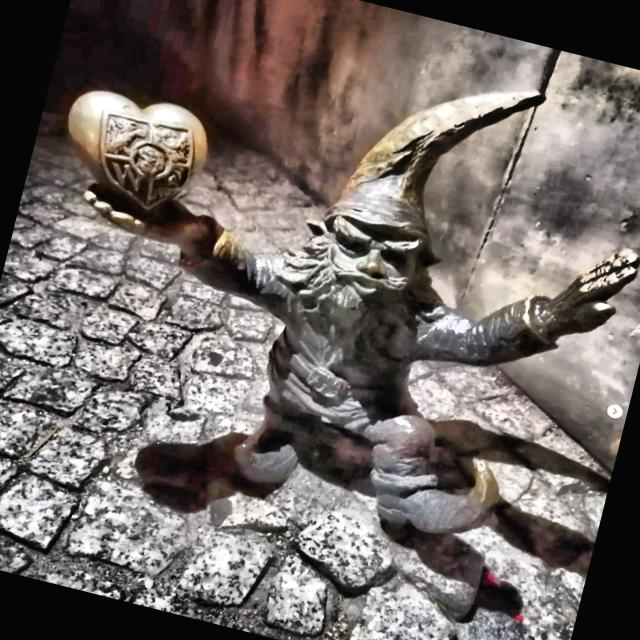WrocLovek: (48, 78, 640, 543)
